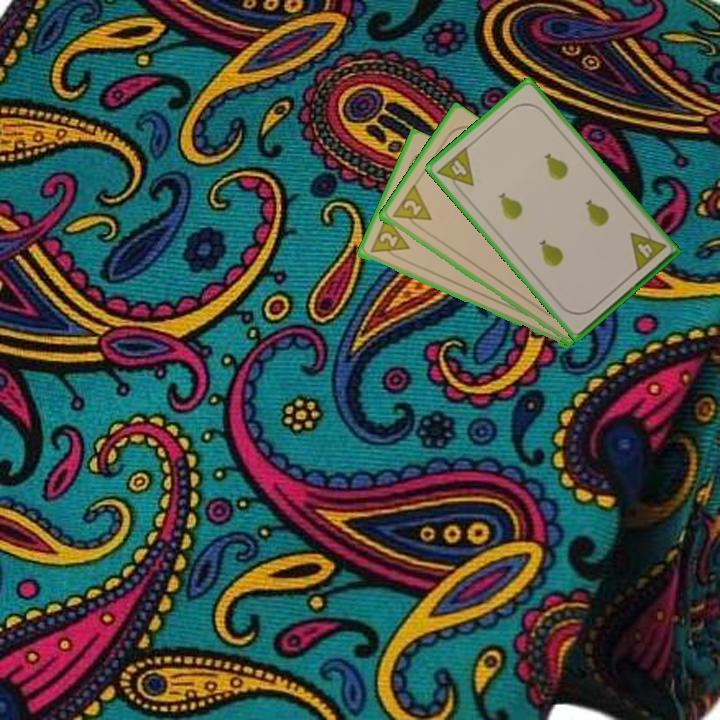2p: (387, 182, 434, 233), (366, 215, 412, 263)
4p: (433, 143, 477, 198), (626, 221, 669, 274)
